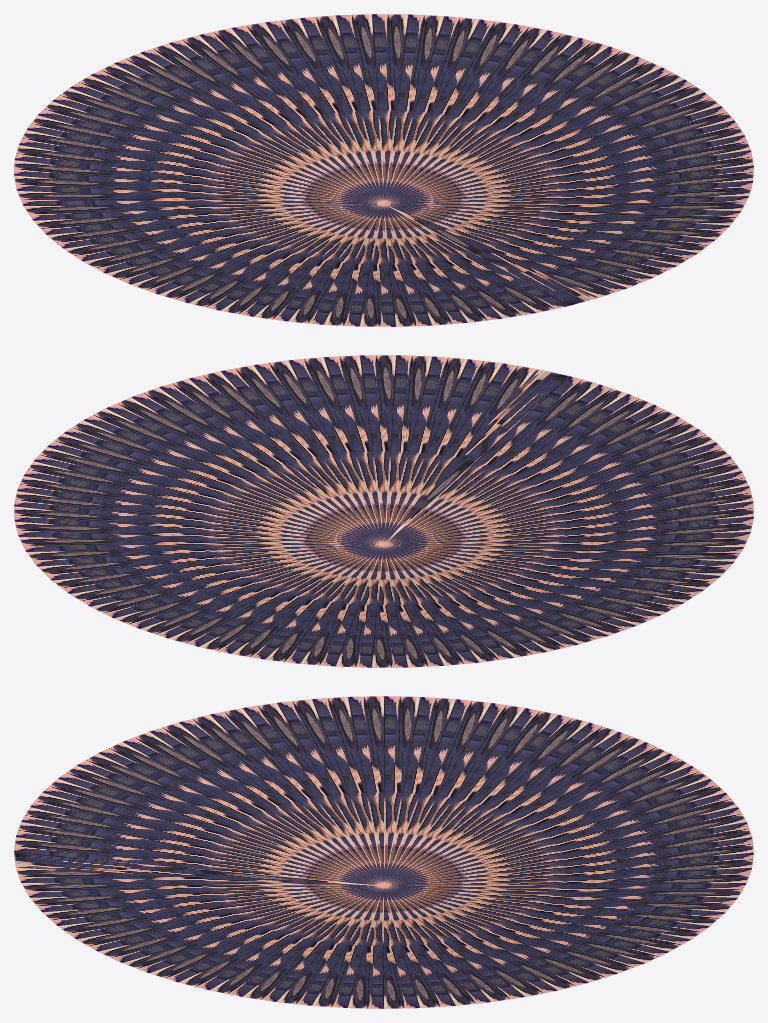
Rendered from flatcone.dae.
The picture shows the model from 3 angles, top to bottom: view 1: azimuth 30°, elevation 25°; view 2: azimuth 150°, elevation 25°; view 3: azimuth 270°, elevation 25°; orthographic projection.
Parts seen in each view (by area): view 1: Cone; view 2: Cone; view 3: Cone.
Part boxes in pixels (x1,y1,x2,y2): Cone: [14, 14, 753, 326]; Cone: [14, 355, 753, 667]; Cone: [14, 696, 753, 1008].
Size of the model in its own units: 20 by 20 by 1.
